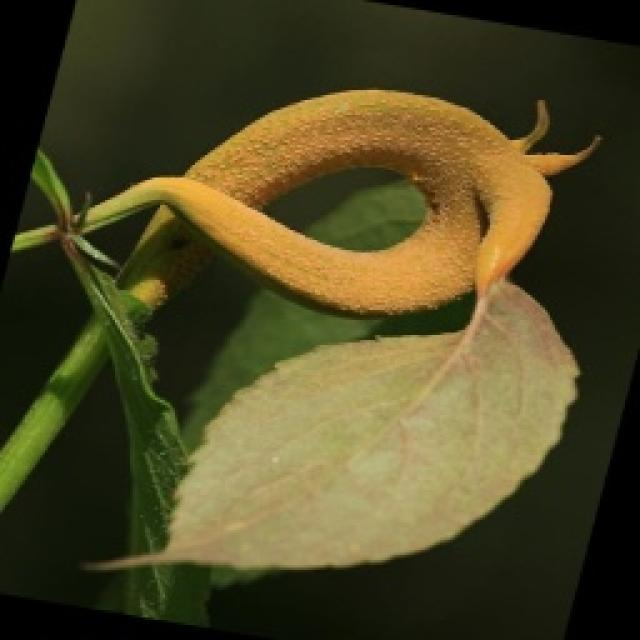Elderberry_rust: (176, 78, 540, 333)
